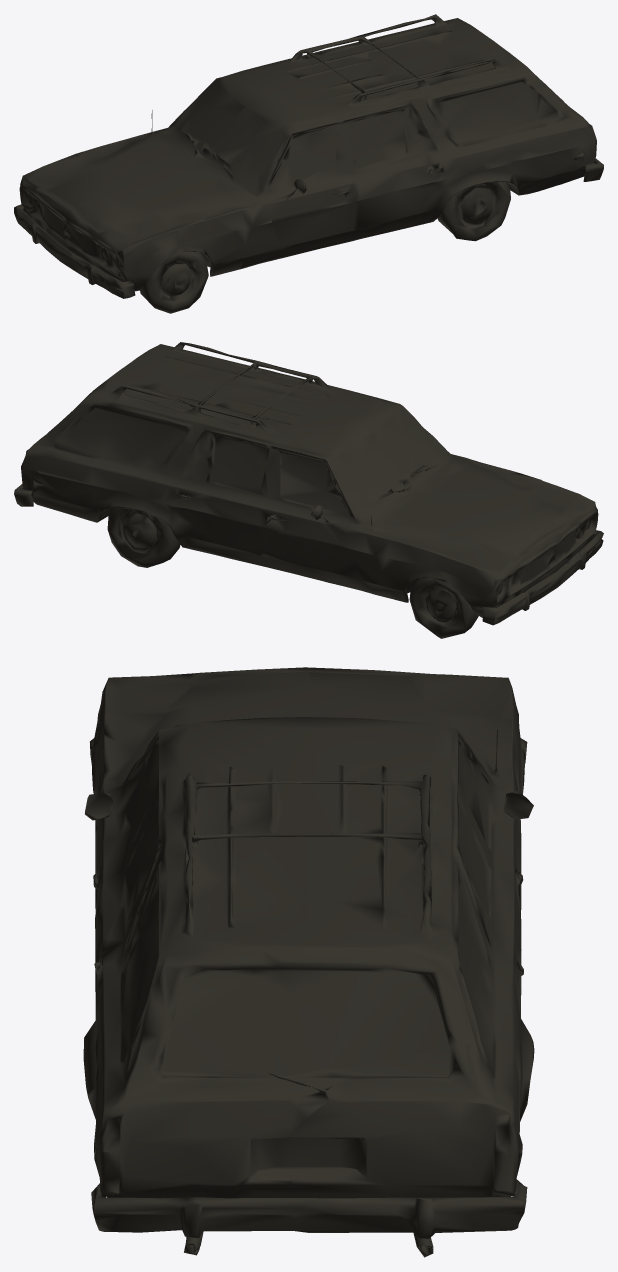
Rendered from car_wagon_light_q0.glb.
3 renders of one model, top to bottom at view 1: azimuth 30°, elevation 25°; view 2: azimuth 150°, elevation 25°; view 3: azimuth 270°, elevation 25°, orthographic. The views are drawn at different scales.
Bounding box in the file's own units: 4.78 × 1.49 × 1.88.
1 material, 1 textured.
